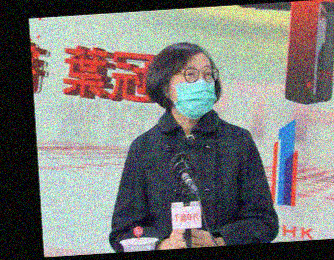with_mask: (169, 62, 219, 120)
